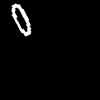chain: (12, 4, 30, 35)
